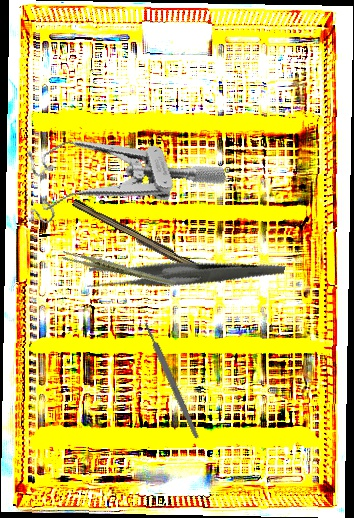Dressing Forceps: (84, 214, 286, 338)
Scalpel Handle: (69, 198, 225, 287), (142, 321, 201, 440)
Speculum: (9, 97, 228, 242)
Tissue Forceps: (60, 232, 177, 307)
